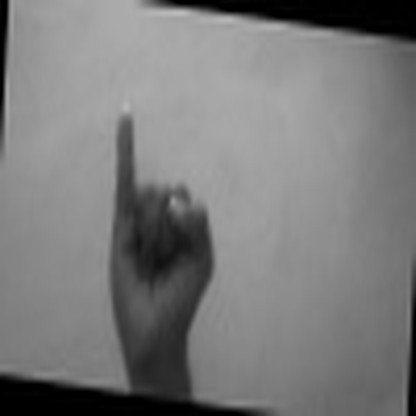i: (92, 95, 222, 377)
